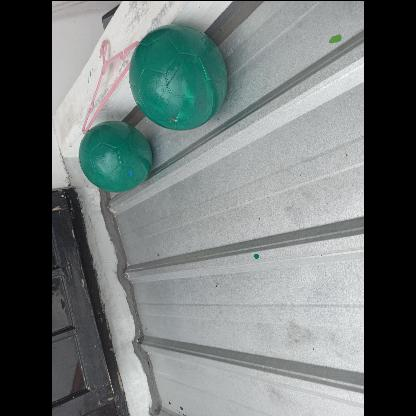green_ball: (126, 23, 232, 129), (78, 119, 150, 192)
